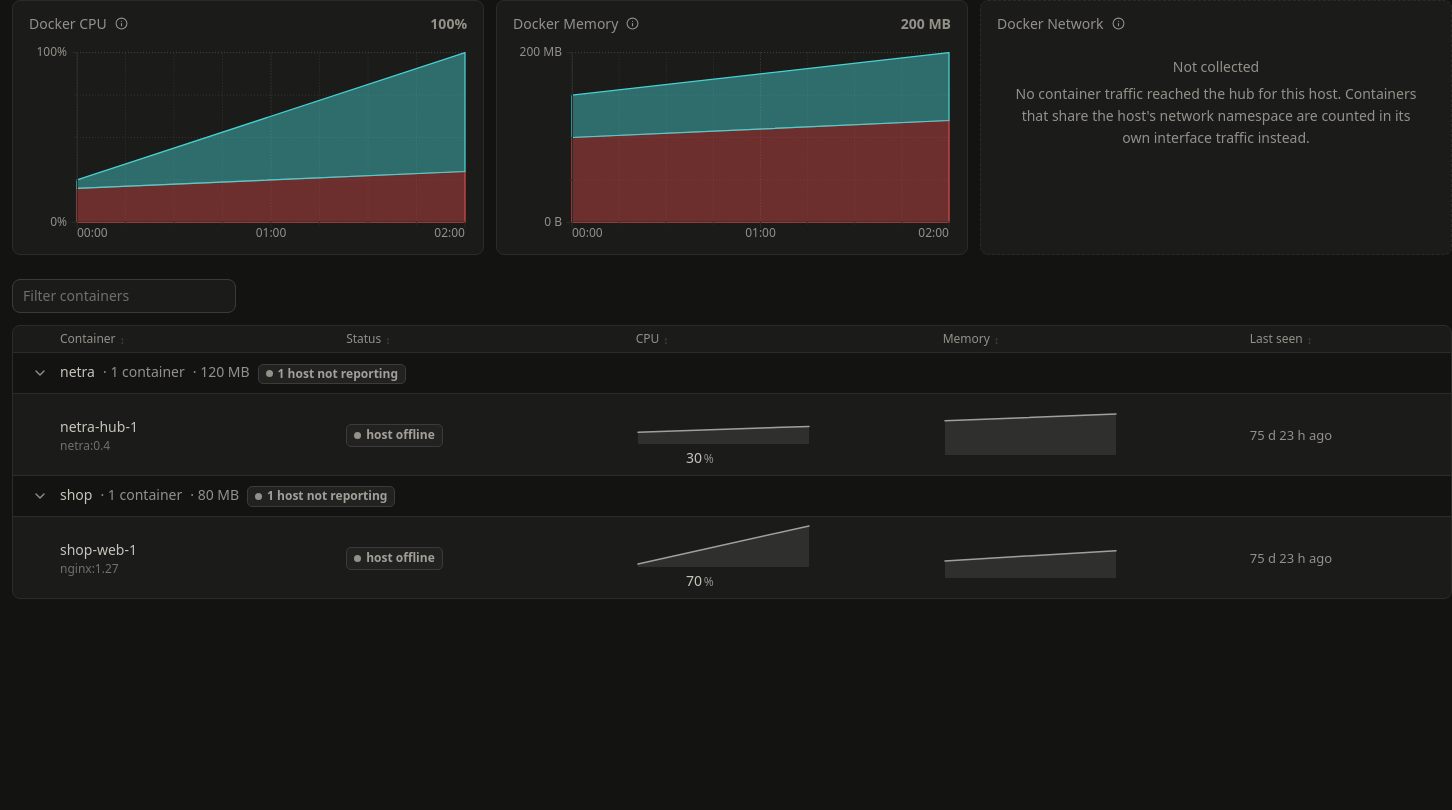
it: Containers › keeps the overview whole while the list is filtered
Type "shop-web" into the search field labelled "Filter containers". click: (124, 296)
box: [12,279,236,313]
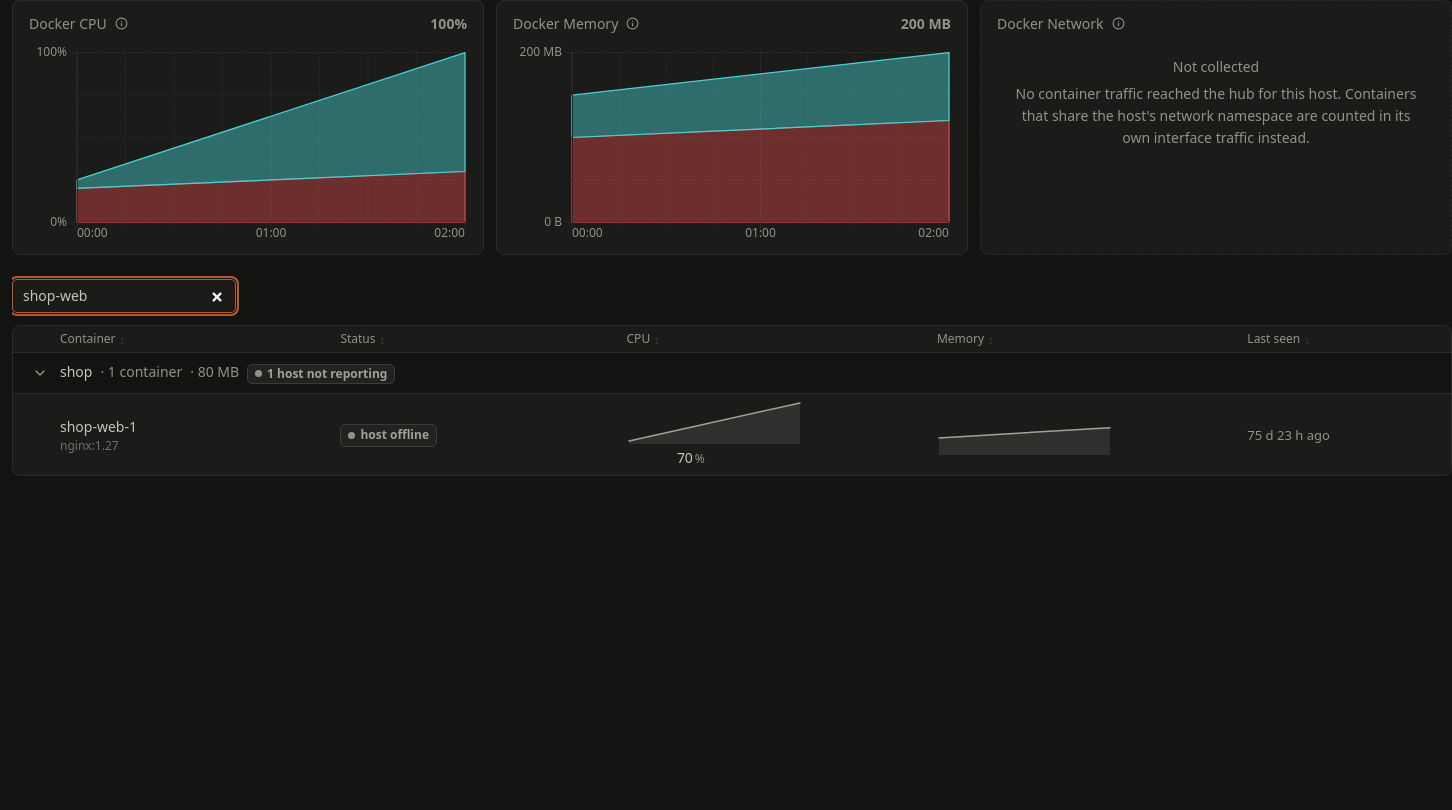
Check: the link "netra-hub-1" is gone
